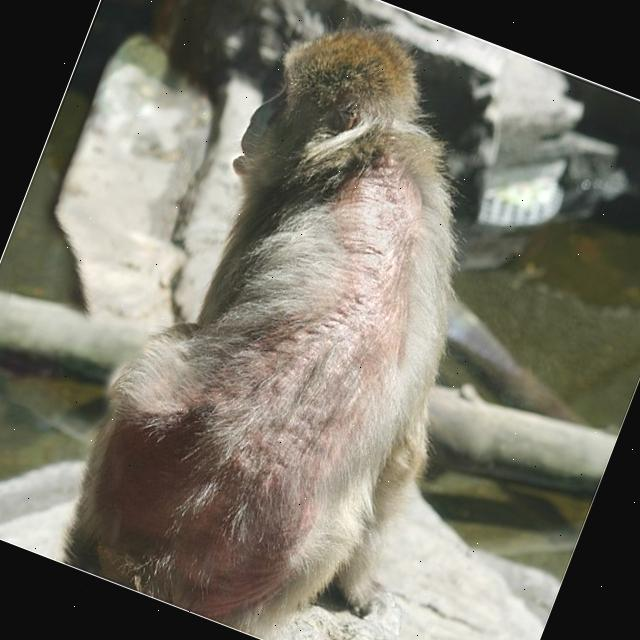cat-hairloss: (156, 155, 434, 613)
